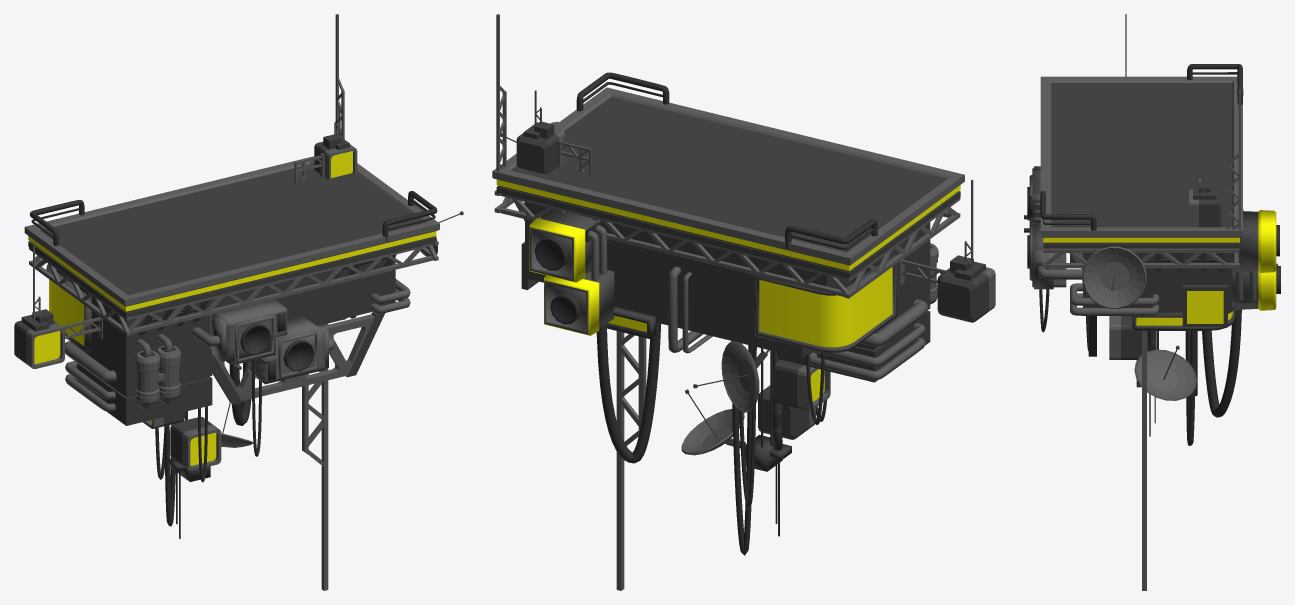
File: TEST_mdl_Platform.glb
3 views of the same model, side by side, from view 1: azimuth 30°, elevation 25°; view 2: azimuth 150°, elevation 25°; view 3: azimuth 270°, elevation 25° (orthographic). The views are drawn at different scales.
Parts seen in each view (by area): view 1: Platform_4x2; view 2: Platform_4x2; view 3: Platform_4x2.
Boxes of the visible parts, <box> form: Platform_4x2: <box>14,14,463,590</box>; Platform_4x2: <box>492,14,995,590</box>; Platform_4x2: <box>1024,14,1280,590</box>.
Size of the model in its own units: 5.32 by 6.16 by 2.71.
Materials: 6 (1 with a texture image).
